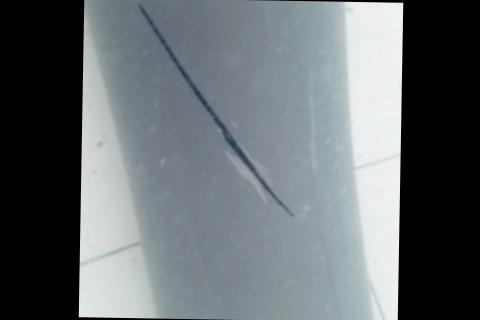keretakan: (132, 1, 298, 218)
